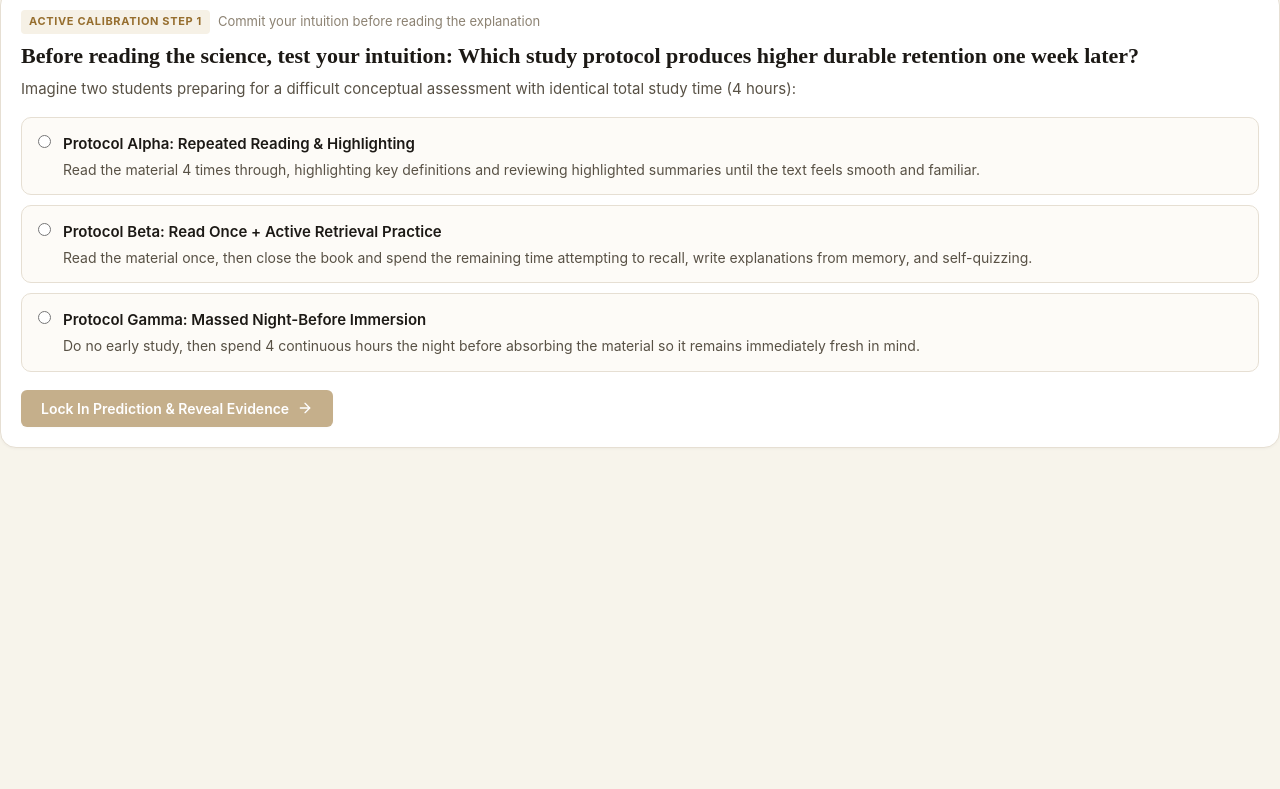
it: PredictionInteraction Component › allows selecting an option and locks in prediction to reveal empirical outcome
The width and height of the screenshot is (1280, 789).
Expected: the button "Lock In Prediction & Reveal Evidence" is disabled, left=21, top=390, right=333, bottom=427
Note: Select Protocol Beta
Click the radio button showing "opt-retrieval" at {"x": 44, "y": 230}, box left=38, top=223, right=51, bottom=236
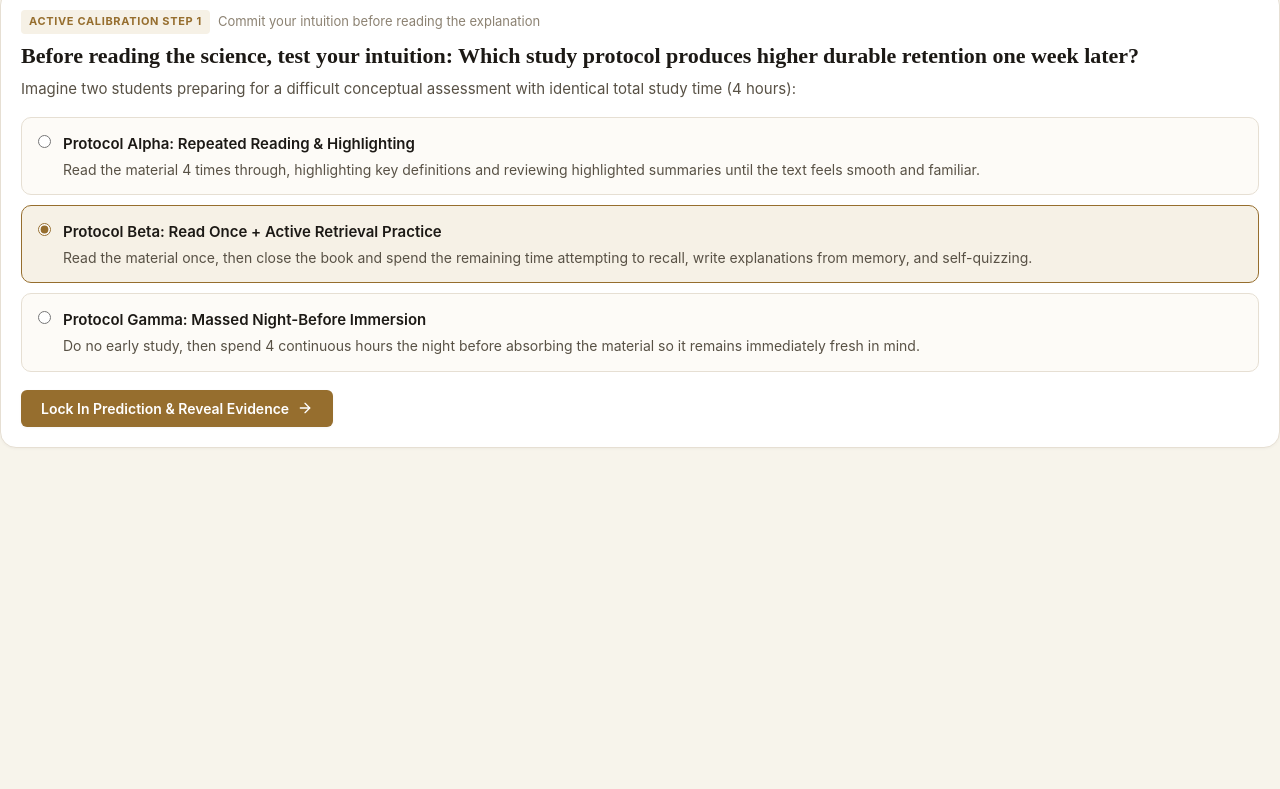
Expected: the button "Lock In Prediction & Reveal Evidence" is enabled
Click the button "Lock In Prediction & Reveal Evidence" at {"x": 177, "y": 408}, box left=21, top=390, right=333, bottom=427
(page scrolled)
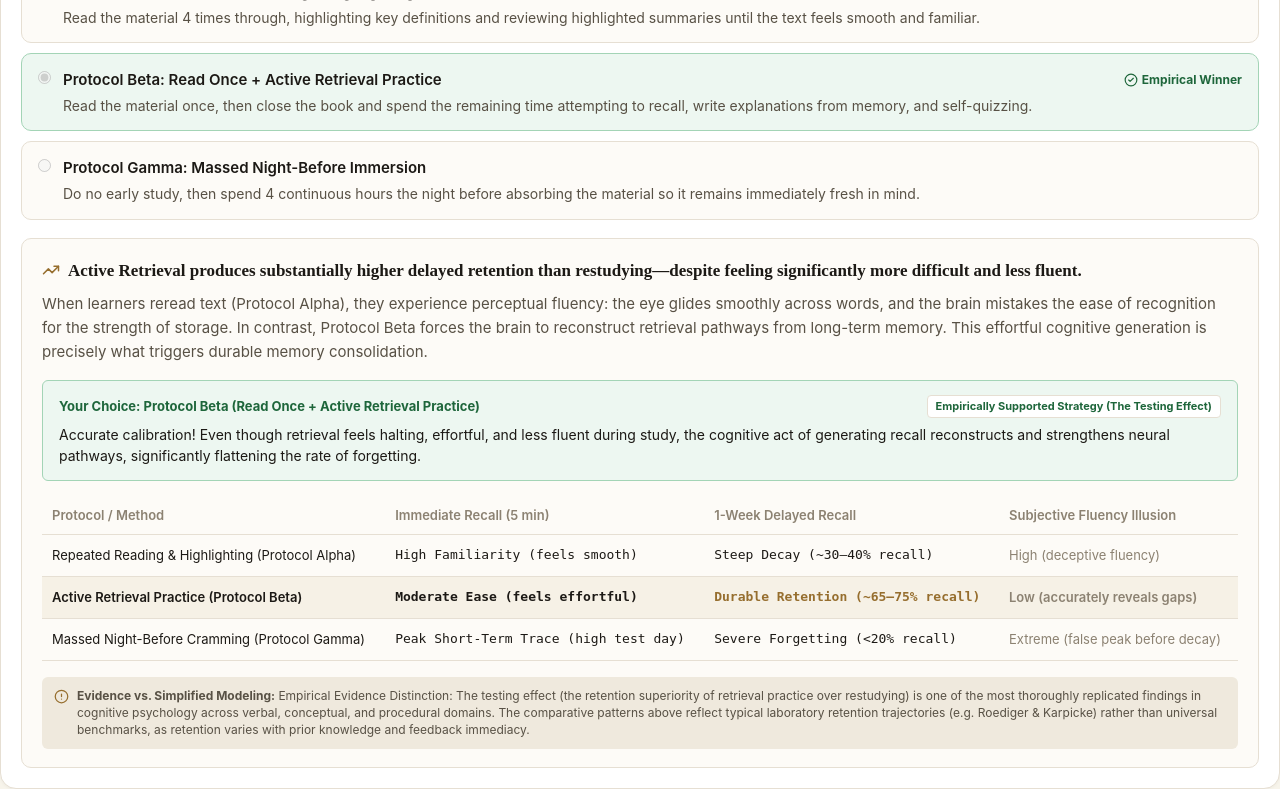
Expected: the heading "Active Retrieval produces substantially higher delayed retention" is shown, left=68, top=261, right=1082, bottom=280
Expected: the text "Empirically Supported Strategy (The Testing Effect)" is shown, left=927, top=395, right=1221, bottom=418
Expected: the text "Evidence vs. Simplified Modeling:" is shown, left=77, top=688, right=275, bottom=702
